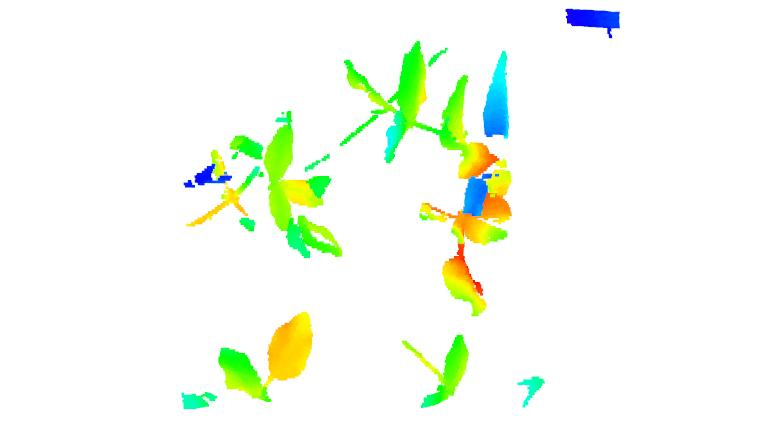mungbean: (343, 40, 518, 314), (180, 115, 348, 259), (175, 309, 324, 414), (399, 333, 479, 410)
